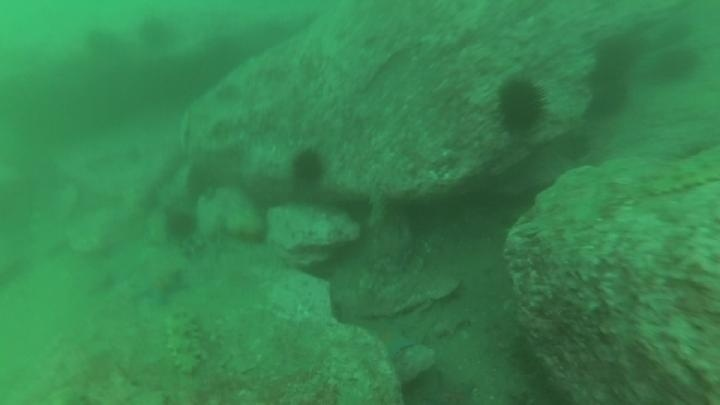echinus: (494, 75, 549, 136), (591, 34, 640, 81), (648, 44, 701, 85), (588, 76, 631, 120), (135, 14, 178, 53), (289, 146, 328, 187), (552, 129, 594, 165), (162, 208, 200, 243), (83, 26, 123, 59)
holothurian: (639, 155, 720, 199), (163, 309, 206, 378)
starfish: (409, 366, 480, 404), (132, 266, 190, 308), (369, 320, 417, 360)
